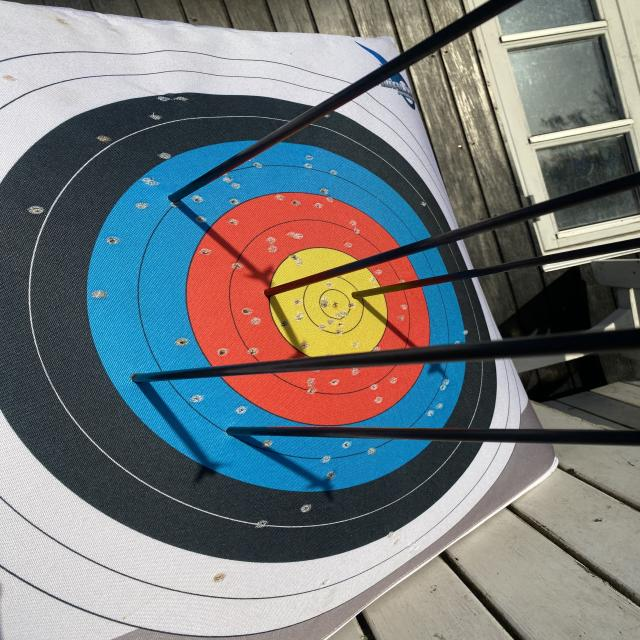Arrow_Blue: (120, 364, 174, 399), (215, 418, 260, 448), (164, 180, 199, 218)
Arrow_Red: (252, 280, 280, 311)
Arrow_Yellow: (343, 287, 384, 307)
